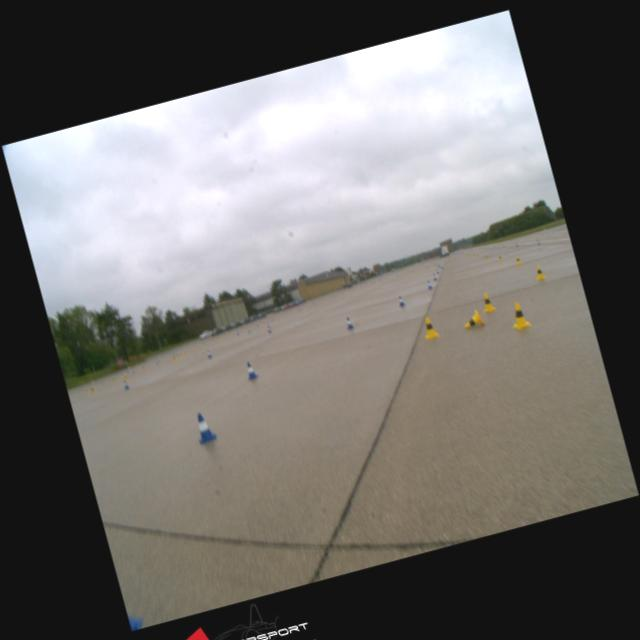blue_cone: (192, 410, 216, 442), (242, 360, 258, 380), (344, 316, 354, 328), (396, 294, 405, 306), (426, 280, 432, 288)
yellow_cone: (507, 300, 530, 329), (461, 308, 484, 329), (421, 315, 438, 338), (478, 291, 495, 312), (533, 264, 545, 280), (514, 254, 522, 264)
